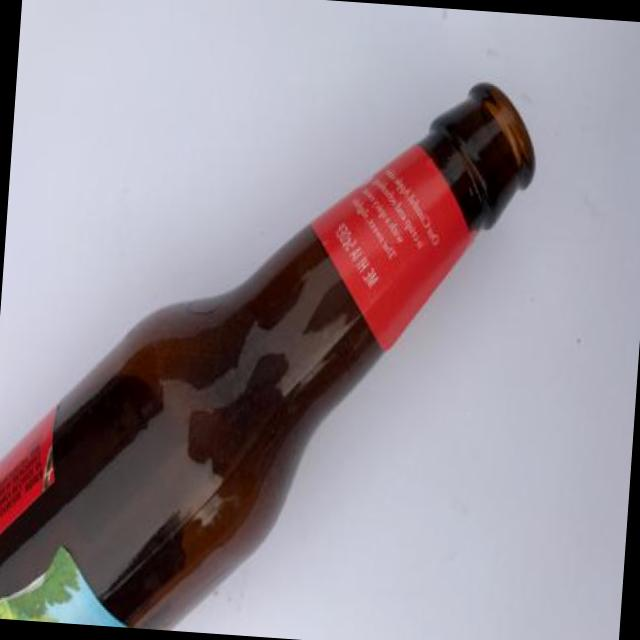chai_thuy_tinh: (0, 84, 536, 628)
